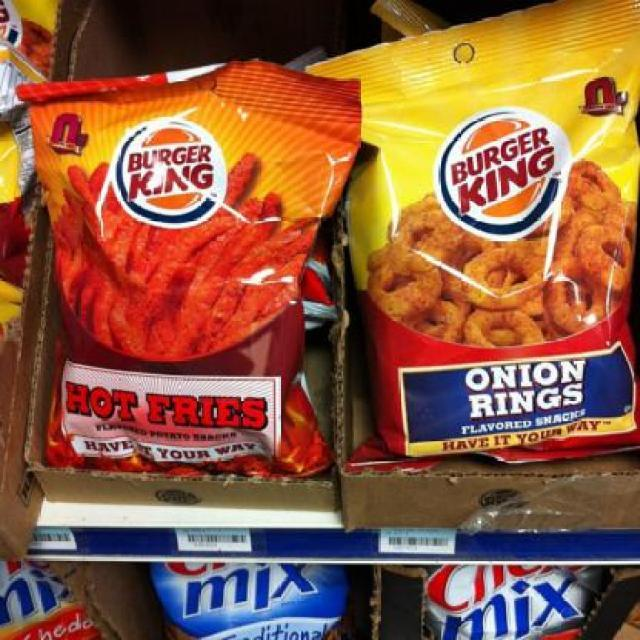Chips: (15, 31, 362, 500), (331, 50, 640, 472)
